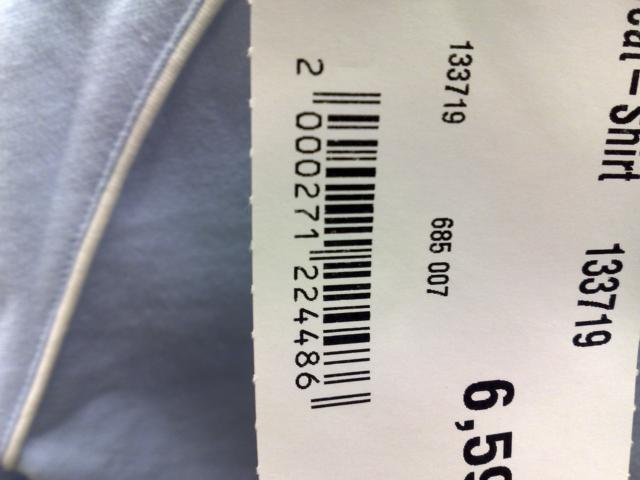Barkod: (316, 79, 384, 404)
